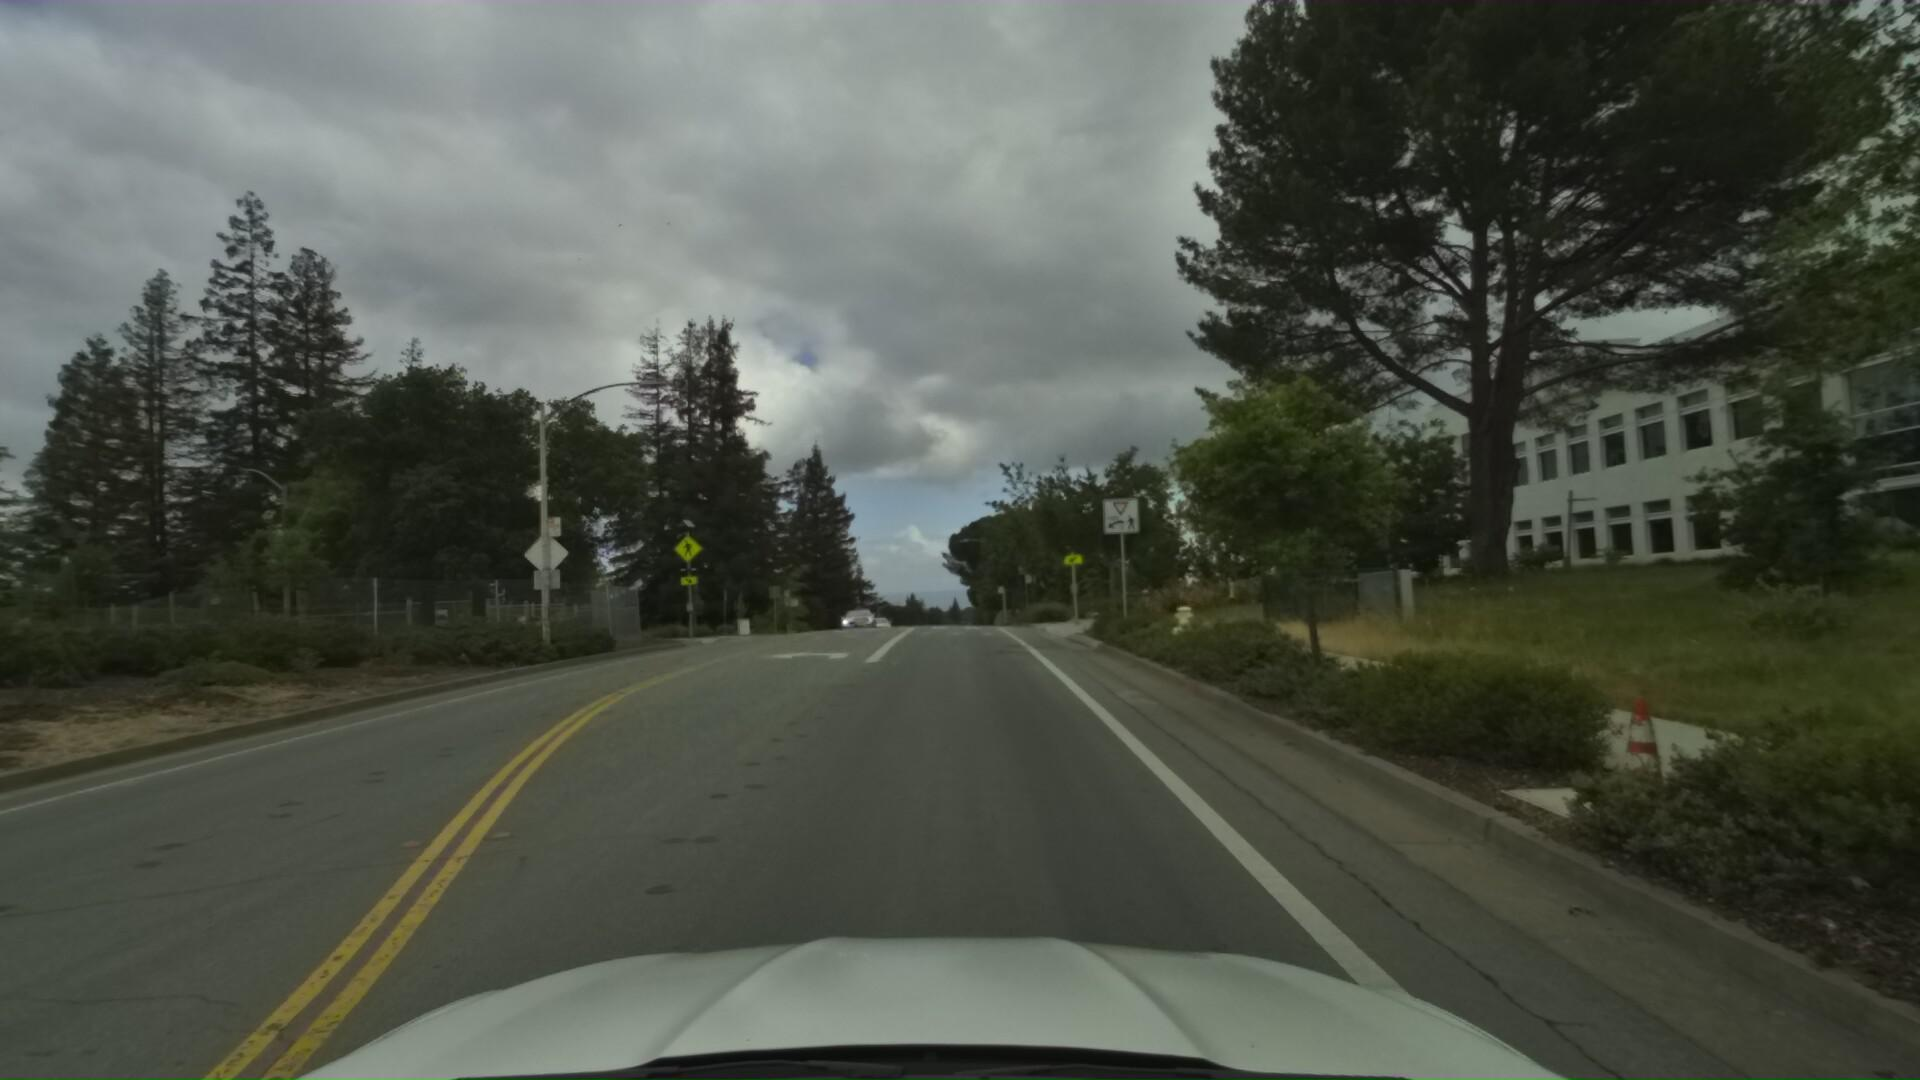car: (836, 591, 874, 622), (862, 607, 890, 628)
